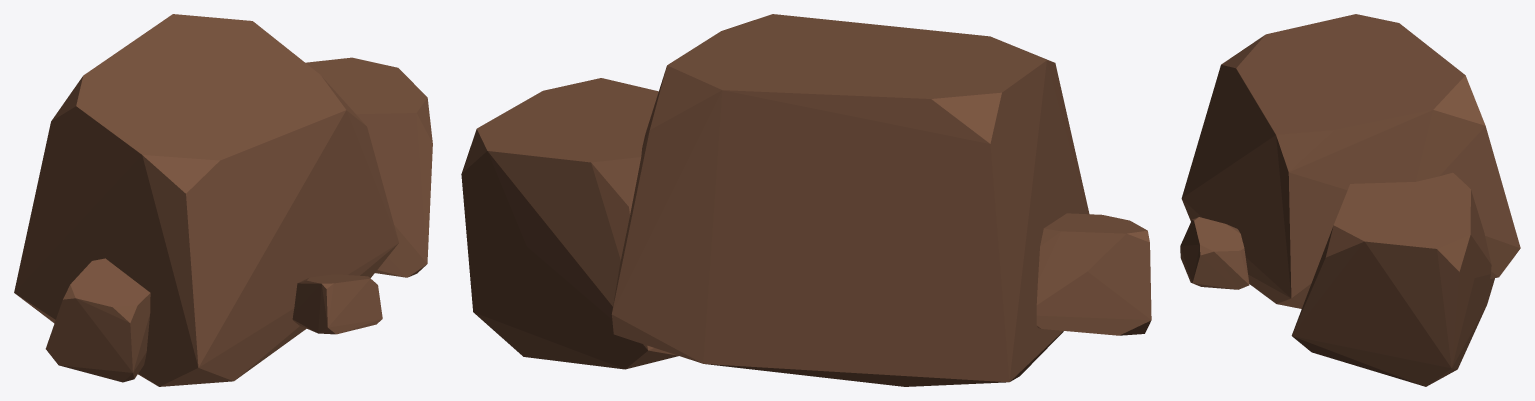
File: env_rock_a.fbx
The picture shows the model from 3 angles, left to right: view 1: azimuth 30°, elevation 25°; view 2: azimuth 150°, elevation 25°; view 3: azimuth 270°, elevation 25°; orthographic projection. The views are drawn at different scales.
Visible parts, largest first — view 1: Rock; view 2: Rock; view 3: Rock.
Boxes of the visible parts, x1,y1,x2,y2 form: Rock: [14, 14, 432, 386]; Rock: [461, 14, 1151, 386]; Rock: [1180, 14, 1520, 386].
Bounding box in the file's own units: 14.35 × 8 × 10.77.
